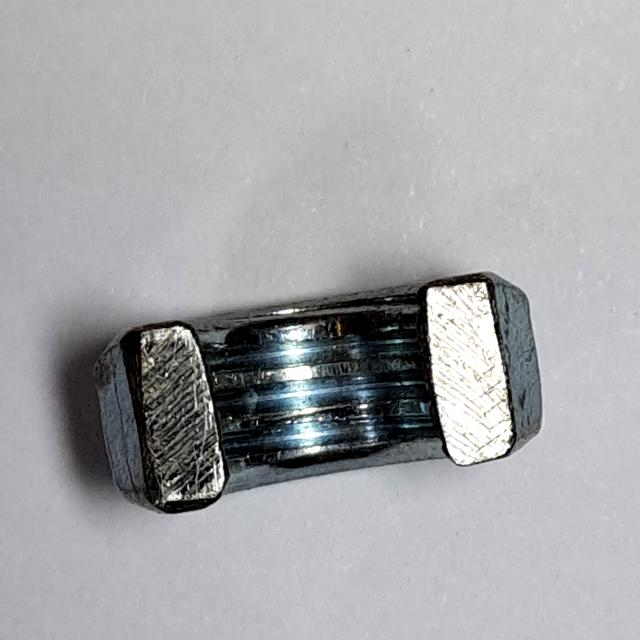Side-Fracture: (83, 256, 556, 527)
